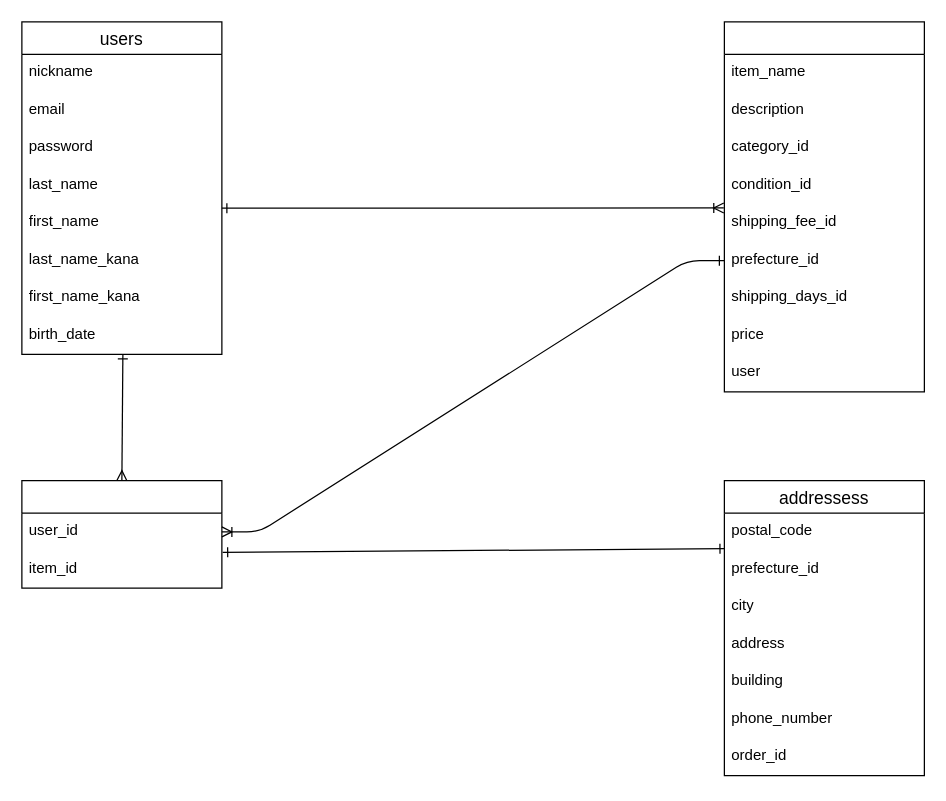
Image size: 946x801. Some labels were removed from this diagram. The box of each missing label's shape, as (x1, y1, x2, y2) in pixels:
items: (723, 21, 924, 392)
orders: (21, 479, 222, 588)
